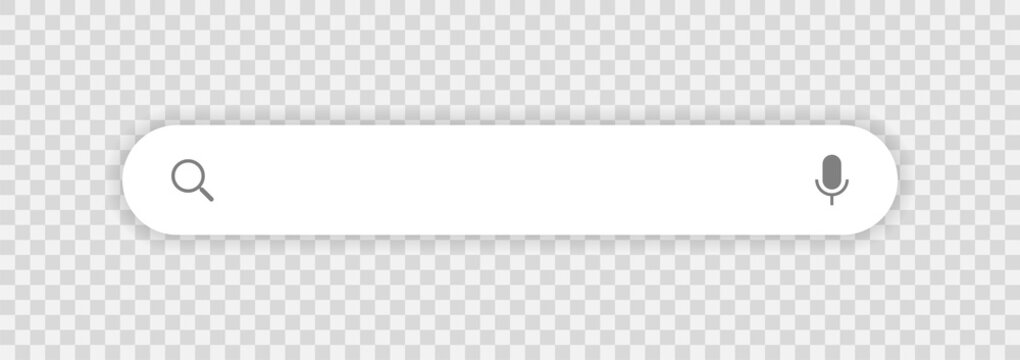search_box: (126, 127, 898, 233)
